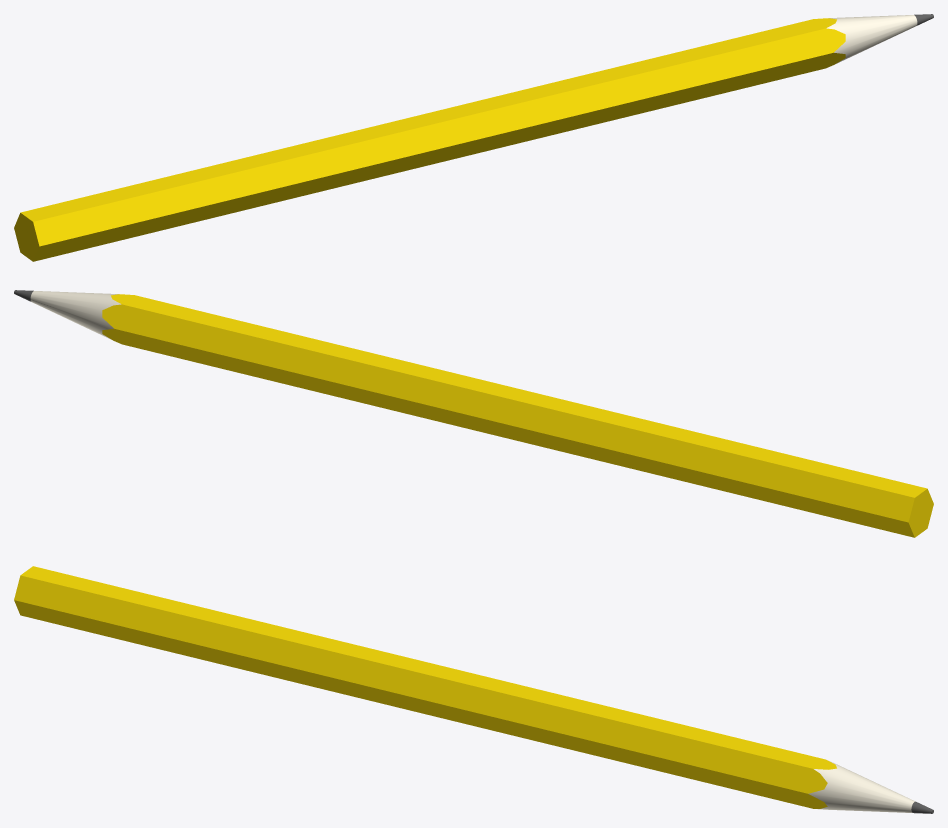
File: 3. Pensil batang.fbx
3 views of the same model, one above another, from view 1: azimuth 30°, elevation 25°; view 2: azimuth 150°, elevation 25°; view 3: azimuth 330°, elevation 25° (orthographic).
Parts seen in each view (by area): view 1: 3; view 2: 3; view 3: 3.
Part boxes in pixels (<box>): 3: <box>14,14,933,261</box>; 3: <box>14,290,933,537</box>; 3: <box>14,566,933,813</box>.
Size of the model in its own units: 1787 by 75.34 by 87.
